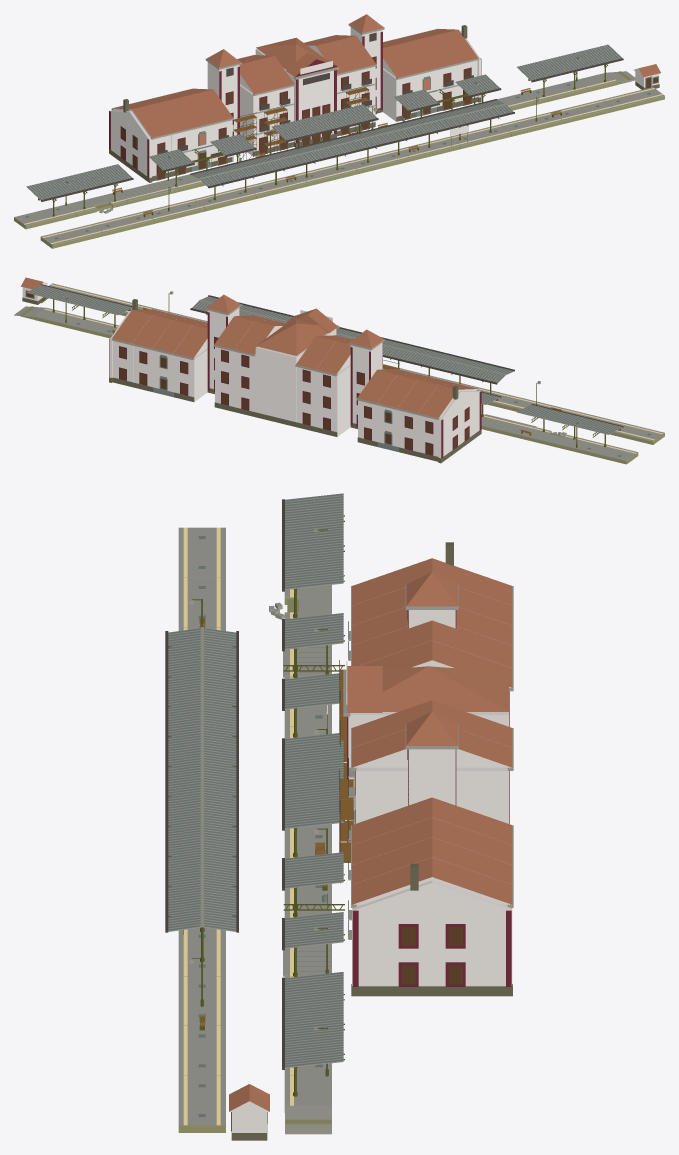
The model's file is SM_EstacionCastellon_v3_LOD0.fbx.
3 renders of one model, top to bottom at view 1: azimuth 30°, elevation 25°; view 2: azimuth 150°, elevation 25°; view 3: azimuth 270°, elevation 25°, orthographic. The views are drawn at different scales.
Parts seen in each view (by area): view 1: SM_bloques.estacion_castellon_v3_LOD0; view 2: SM_bloques.estacion_castellon_v3_LOD0; view 3: SM_bloques.estacion_castellon_v3_LOD0.
Boxes of the visible parts, bbox=[...] form: SM_bloques.estacion_castellon_v3_LOD0: bbox=[14, 14, 664, 248]; SM_bloques.estacion_castellon_v3_LOD0: bbox=[14, 277, 664, 464]; SM_bloques.estacion_castellon_v3_LOD0: bbox=[165, 493, 513, 1140].
Bounding box in the file's own units: 122 × 18.11 × 29.52.
